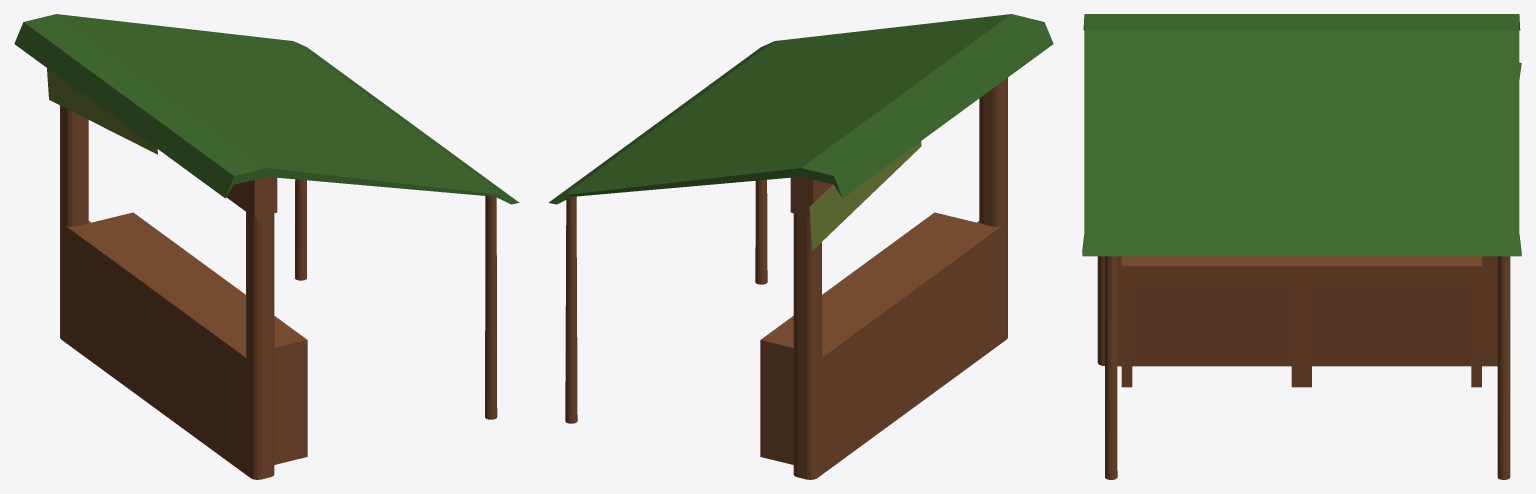
Rendered from Shop.fbx.
3 views of the same model, side by side, from view 1: azimuth 30°, elevation 25°; view 2: azimuth 150°, elevation 25°; view 3: azimuth 270°, elevation 25° (orthographic). The views are drawn at different scales.
Parts seen in each view (by area): view 1: roofholders; view 2: roofholders; view 3: roofholders.
Boxes of the visible parts, x1,y1,x2,y2 form: roofholders: [14, 14, 519, 479]; roofholders: [548, 14, 1053, 479]; roofholders: [1082, 14, 1521, 479].
Size of the model in its own units: 282 by 291 by 354.
